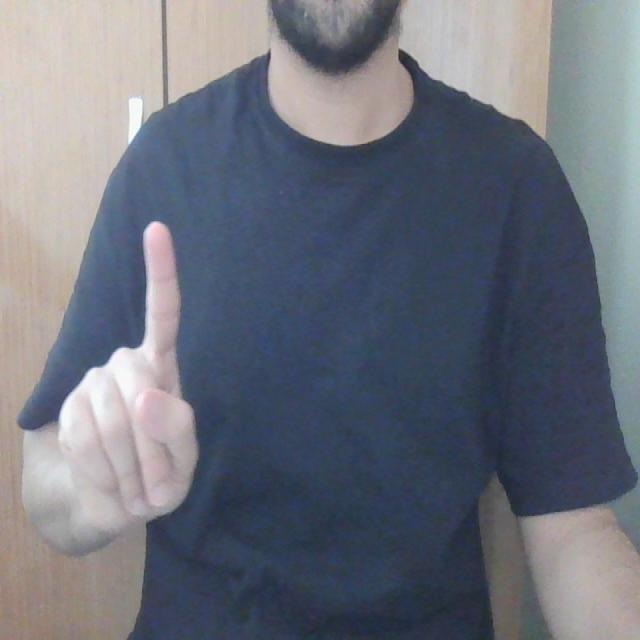Hayir: (49, 177, 205, 579)
